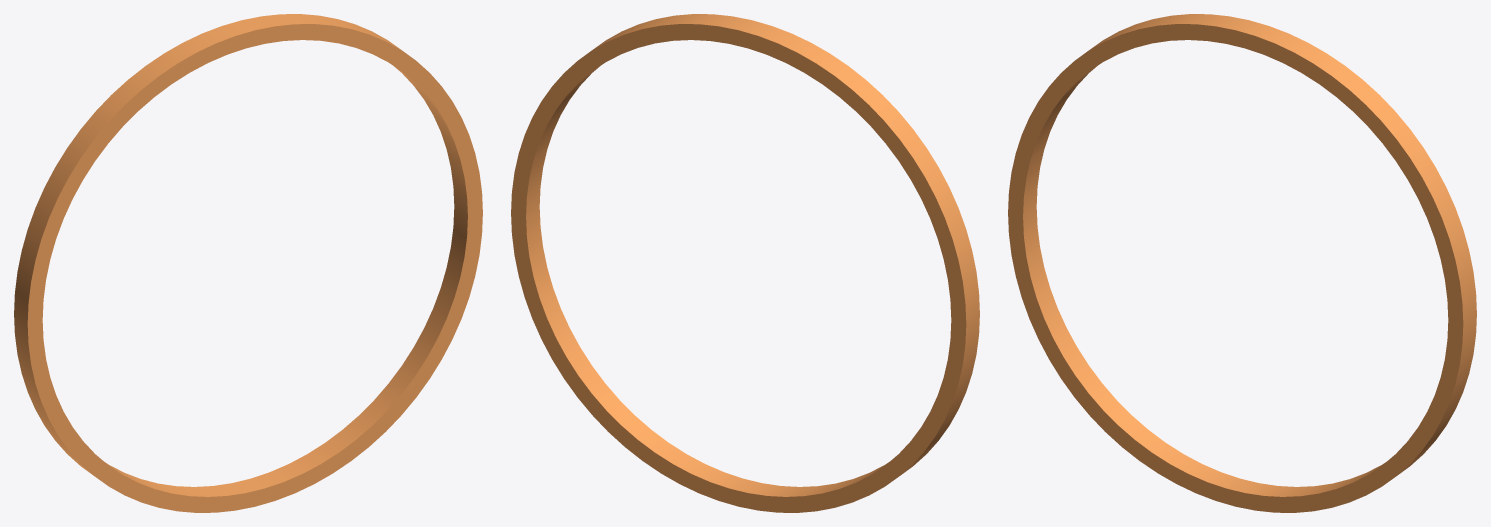
3 renders of one model, left to right at view 1: azimuth 30°, elevation 25°; view 2: azimuth 150°, elevation 25°; view 3: azimuth 330°, elevation 25°, orthographic.
Parts seen in each view (by area): view 1: main_ff671f; view 2: main_ff671f; view 3: main_ff671f.
Boxes of the visible parts, x1,y1,x2,y2 form: main_ff671f: (14,14,482,512); main_ff671f: (511,14,979,512); main_ff671f: (1008,14,1476,512).
Size of the model in its own units: 60.6 by 60.6 by 3.15.
